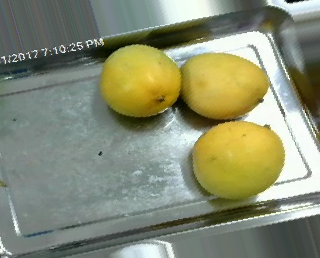Mango: (190, 116, 284, 202), (94, 43, 183, 119), (178, 50, 269, 122)
